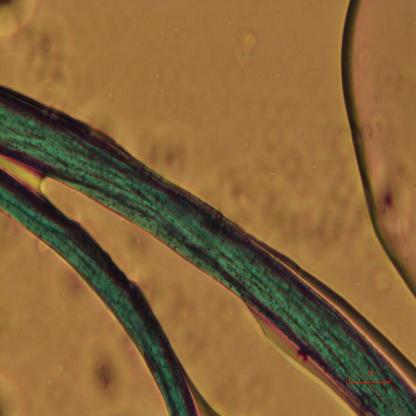Air bubble: (339, 2, 416, 298)
Background material: (212, 106, 352, 248), (16, 27, 82, 92), (137, 128, 198, 169), (123, 225, 163, 287), (223, 19, 260, 72), (0, 0, 37, 38), (83, 356, 117, 397)
Microfibre: (0, 85, 416, 414), (0, 168, 198, 414)
